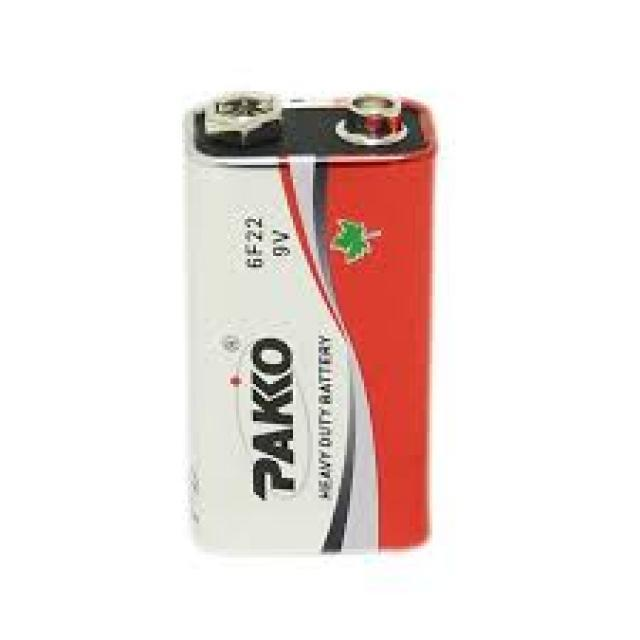battery: (184, 89, 440, 556)
